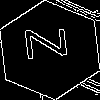Z: (25, 25, 78, 61)
